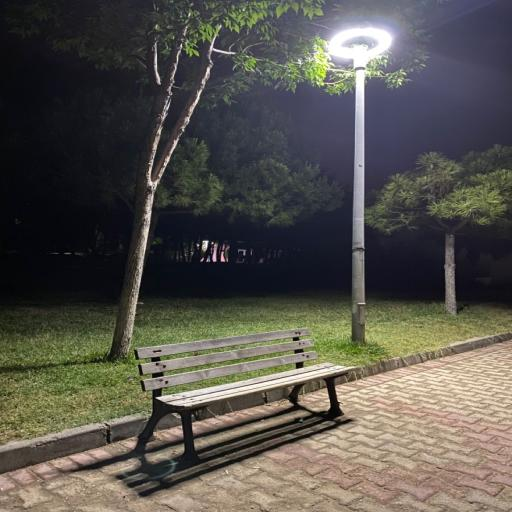elevator: (326, 25, 392, 346)
glass_wall: (0, 340, 511, 511)
trash_bin: (135, 328, 355, 462)
